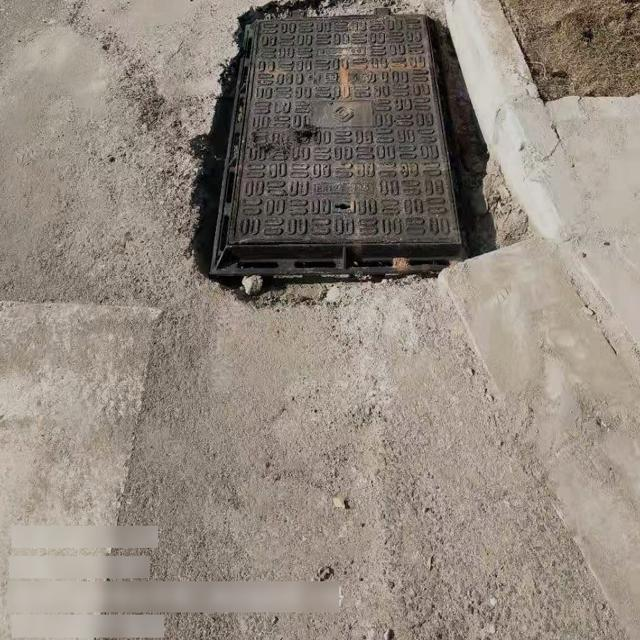circle: (190, 0, 501, 298)
